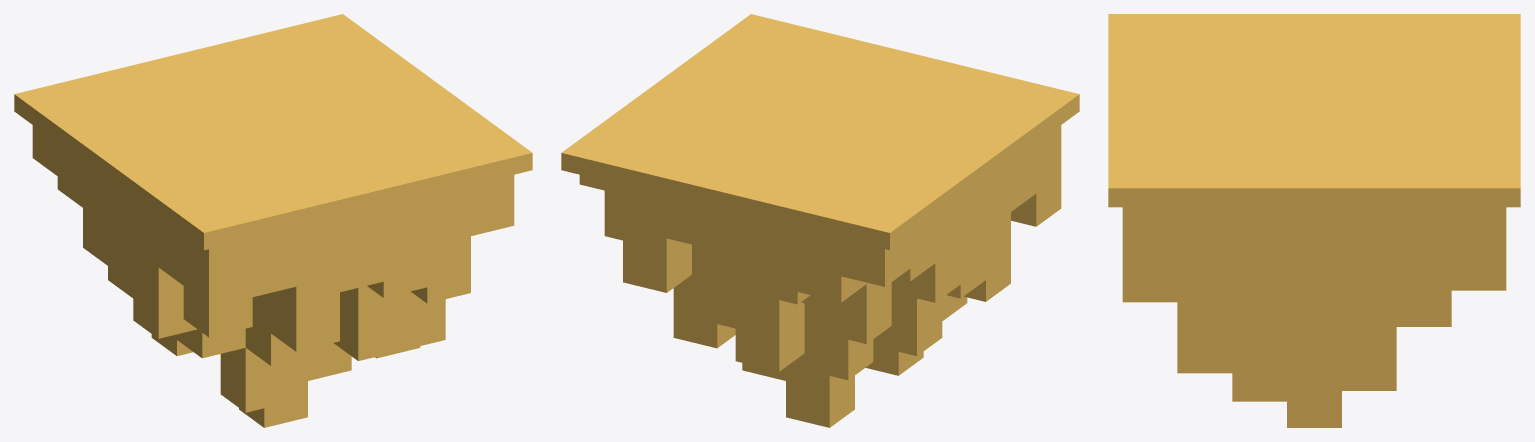
File: P_Tile_Island.fbx
3 renders of one model, left to right at view 1: azimuth 30°, elevation 25°; view 2: azimuth 150°, elevation 25°; view 3: azimuth 270°, elevation 25°, orthographic. The views are drawn at different scales.
Parts seen in each view (by area): view 1: île; view 2: île; view 3: île.
Boxes of the visible parts, box(x1,y1,x2,y2) form: île: box(14, 14, 532, 427); île: box(561, 14, 1079, 427); île: box(1108, 14, 1520, 427).
Size of the model in its own units: 597 by 503 by 597.
